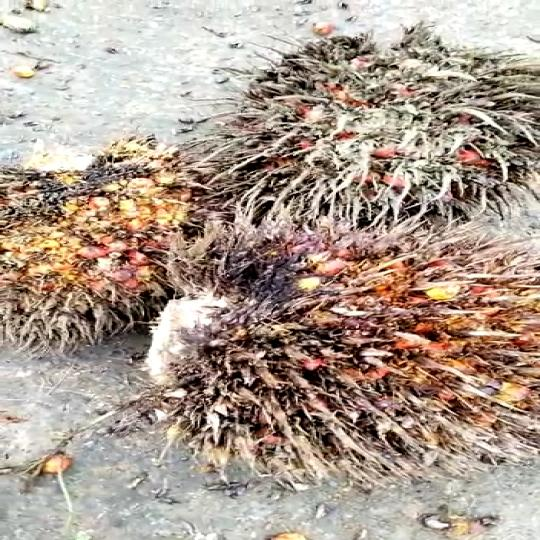terlalu masak: (131, 241, 540, 450), (0, 149, 278, 374), (204, 41, 540, 224)
